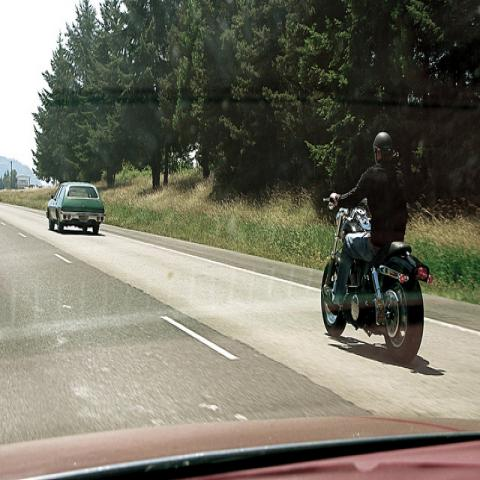car: (46, 182, 105, 234)
motorcycle: (319, 199, 435, 360)
